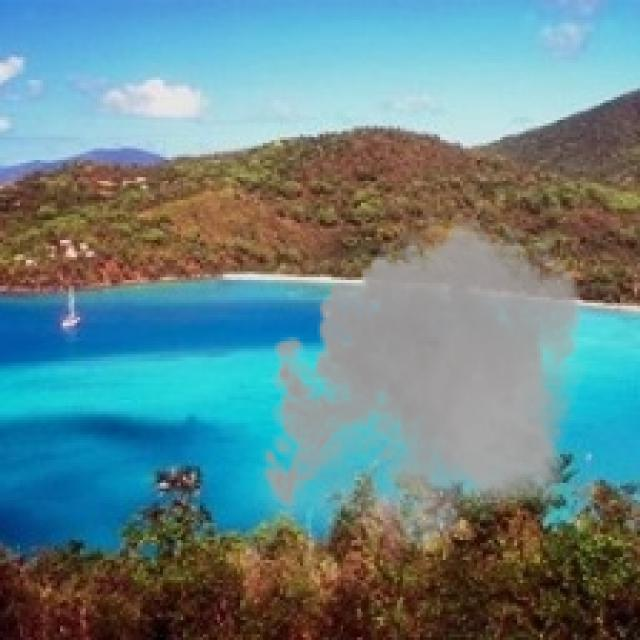smoke: (252, 205, 594, 566)
